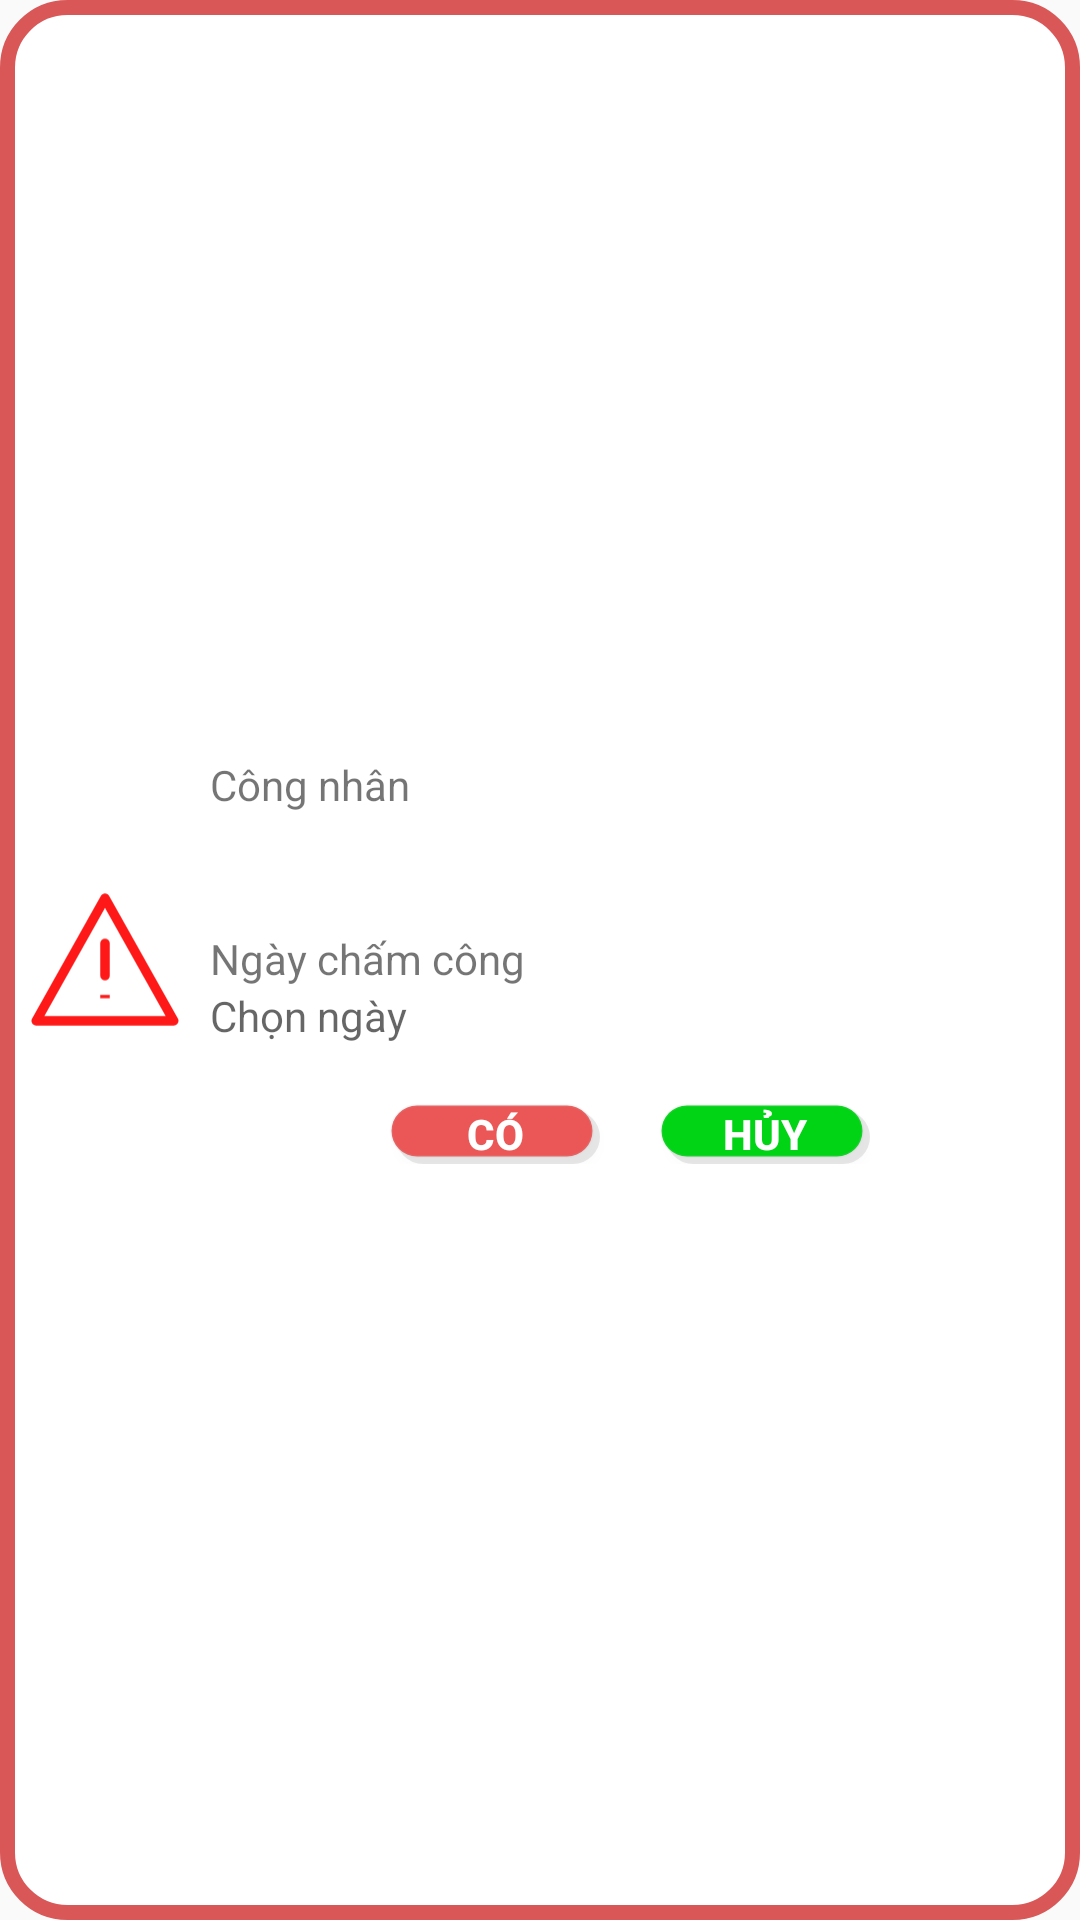

Screen size 1080x1920. Icon name, then its box in pixels as (x1=x1, y1=y1, x2=x2, y2=y2):
park caution: (x1=31, y1=893, x2=179, y2=1026)
